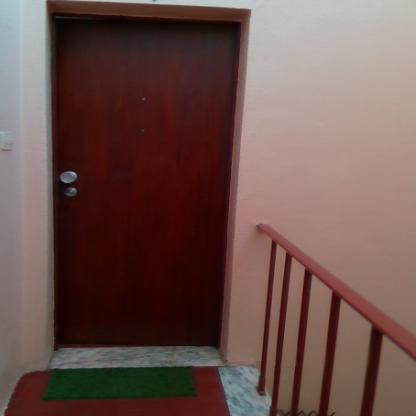door: (57, 15, 221, 345)
knob: (60, 169, 78, 185)
